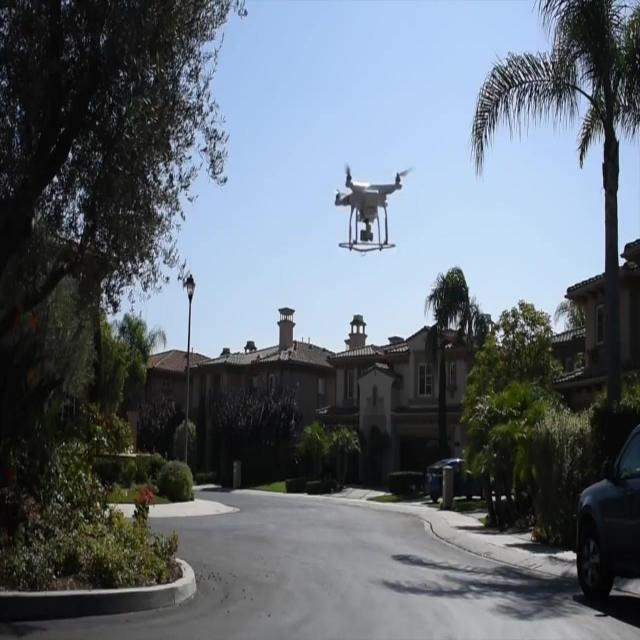UAV: (334, 162, 414, 252)
